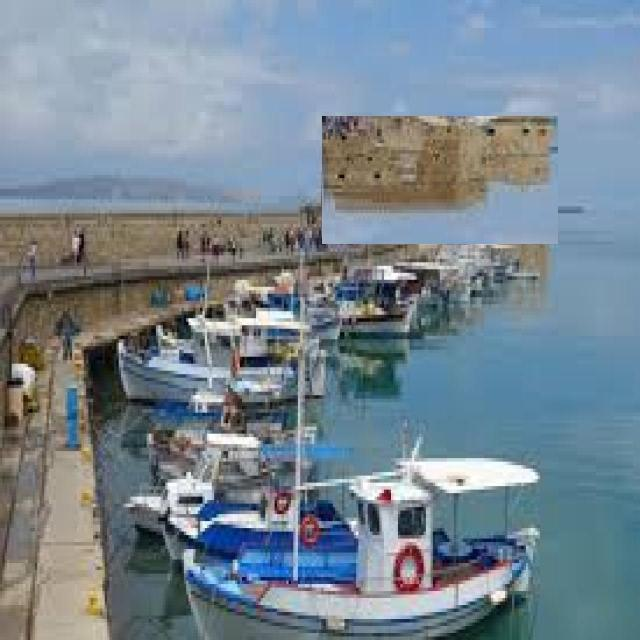Kules: (323, 117, 559, 245)
